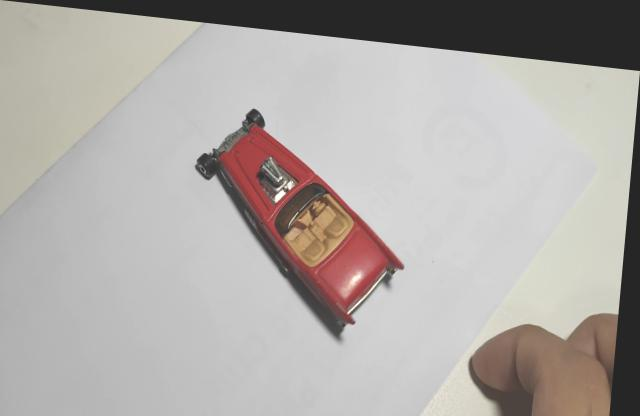03_V8: (197, 104, 409, 335)
